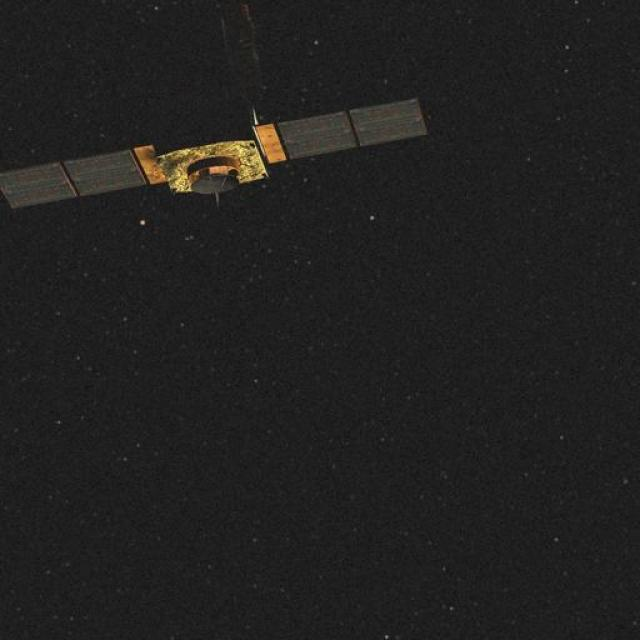soho: (58, 91, 391, 201)
